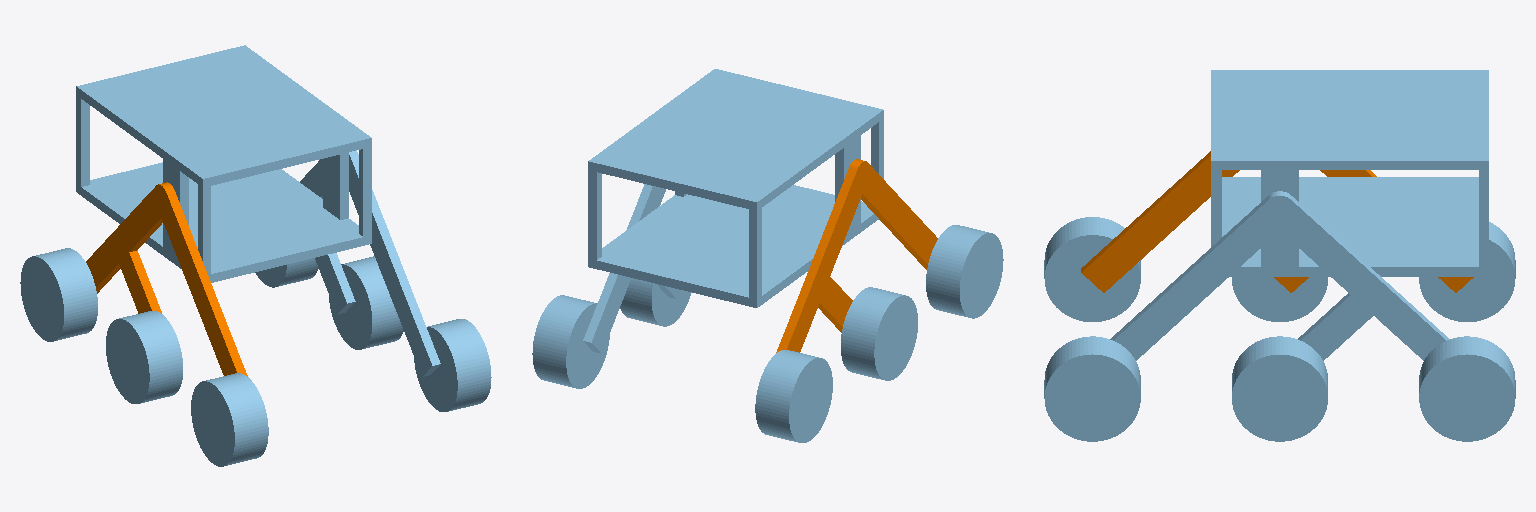
URDF robot description (test-robot):
<?xml version="1.0" ?>
<robot name="test-robot">
  <!-- Link chassis -->
  <link name="chassis">
    <inertial>
      <origin xyz="-0.267839 0.236882 0.0746766" rpy="0 0 0"/>
      <mass value="19.9998"/>
      <inertia ixx="1.60493" ixy="-0" ixz="-0" iyy="1.55529" iyz="-0.131187" izz="2.02854"/>
    </inertial>
    <!-- Part chassis -->
    <visual>
      <origin xyz="-0.521839 0.646545 0.02613" rpy="0 -0 0"/>
      <geometry>
        <mesh filename="package://robot_description/urc-robot/assets/chassis.stl"/>
      </geometry>
      <material name="chassis_material">
        <color rgba="0.615686 0.811765 0.929412 1"/>
      </material>
    </visual>
    <collision>
      <origin xyz="-0.521839 0.646545 0.02613" rpy="0 -0 0"/>
      <geometry>
        <mesh filename="package://robot_description/urc-robot/assets/chassis.stl"/>
      </geometry>
    </collision>
    <!-- Part part_1_mirrored -->
    <visual>
      <origin xyz="-0.526919 0.149975 0.21536" rpy="3.14159 -0 3.14159"/>
      <geometry>
        <mesh filename="package://robot_description/urc-robot/assets/part_1_mirrored.stl"/>
      </geometry>
      <material name="part_1_mirrored_material">
        <color rgba="0.972549 0.529412 0.00392157 1"/>
      </material>
    </visual>
    <collision>
      <origin xyz="-0.526919 0.149975 0.21536" rpy="3.14159 -0 3.14159"/>
      <geometry>
        <mesh filename="package://robot_description/urc-robot/assets/part_1_mirrored.stl"/>
      </geometry>
    </collision>
    <!-- Part part_1 -->
    <visual>
      <origin xyz="-0.00875944 0.149975 0.21536" rpy="0 -0 0"/>
      <geometry>
        <mesh filename="package://robot_description/urc-robot/assets/part_1.stl"/>
      </geometry>
      <material name="part_1_material">
        <color rgba="0.615686 0.811765 0.929412 1"/>
      </material>
    </visual>
    <collision>
      <origin xyz="-0.00875944 0.149975 0.21536" rpy="0 -0 0"/>
      <geometry>
        <mesh filename="package://robot_description/urc-robot/assets/part_1.stl"/>
      </geometry>
    </collision>
  </link>
  <!-- Link wheel -->
  <link name="wheel">
    <inertial>
      <origin xyz="0 -0 -0.0508" rpy="0 0 0"/>
      <mass value="1.00017"/>
      <inertia ixx="0.00412704" ixy="0" ixz="0" iyy="0.00412704" iyz="0" izz="0.00653336"/>
    </inertial>
    <!-- Part wheel -->
    <visual>
      <origin xyz="0 0 0" rpy="1.5708 1.5708 0"/>
      <geometry>
        <mesh filename="package://robot_description/urc-robot/assets/wheel.stl"/>
      </geometry>
      <material name="wheel_material">
        <color rgba="0.615686 0.811765 0.929412 1"/>
      </material>
    </visual>
    <collision>
      <origin xyz="0 0 0" rpy="1.5708 1.5708 0"/>
      <geometry>
        <mesh filename="package://robot_description/urc-robot/assets/wheel.stl"/>
      </geometry>
    </collision>
  </link>
  <!-- Joint from chassis to wheel -->
  <joint name="front_left_wheel_joint" type="continuous">
    <origin xyz="0.0166406 -0.294525 -0.22914" rpy="-1.5708 -0 1.5708"/>
    <parent link="chassis"/>
    <child link="wheel"/>
    <axis xyz="0 0 -1"/>
    <limit effort="10" velocity="10"/>
  </joint>
  <!-- Link wheel_2 -->
  <link name="wheel_2">
    <inertial>
      <origin xyz="-0 -0 -0.0508" rpy="0 0 0"/>
      <mass value="1.00017"/>
      <inertia ixx="0.00412704" ixy="0" ixz="0" iyy="0.00412704" iyz="0" izz="0.00653336"/>
    </inertial>
    <!-- Part wheel_2 -->
    <visual>
      <origin xyz="-0 0 0" rpy="1.5708 1.5708 0"/>
      <geometry>
        <mesh filename="package://robot_description/urc-robot/assets/wheel.stl"/>
      </geometry>
      <material name="wheel_2_material">
        <color rgba="0.615686 0.811765 0.929412 1"/>
      </material>
    </visual>
    <collision>
      <origin xyz="-0 0 0" rpy="1.5708 1.5708 0"/>
      <geometry>
        <mesh filename="package://robot_description/urc-robot/assets/wheel.stl"/>
      </geometry>
    </collision>
  </link>
  <!-- Joint from chassis to wheel_2 -->
  <joint name="mid_left_wheel_joint" type="continuous">
    <origin xyz="0.0166406 0.149975 -0.22914" rpy="-1.5708 -0 1.5708"/>
    <parent link="chassis"/>
    <child link="wheel_2"/>
    <axis xyz="0 0 -1"/>
    <limit effort="10" velocity="10"/>
  </joint>
  <!-- Link wheel_3 -->
  <link name="wheel_3">
    <inertial>
      <origin xyz="0 -0 -0.0508" rpy="0 0 0"/>
      <mass value="1.00017"/>
      <inertia ixx="0.00412704" ixy="0" ixz="0" iyy="0.00412704" iyz="0" izz="0.00653336"/>
    </inertial>
    <!-- Part wheel_3 -->
    <visual>
      <origin xyz="0 0 0" rpy="1.5708 1.5708 0"/>
      <geometry>
        <mesh filename="package://robot_description/urc-robot/assets/wheel.stl"/>
      </geometry>
      <material name="wheel_3_material">
        <color rgba="0.615686 0.811765 0.929412 1"/>
      </material>
    </visual>
    <collision>
      <origin xyz="0 0 0" rpy="1.5708 1.5708 0"/>
      <geometry>
        <mesh filename="package://robot_description/urc-robot/assets/wheel.stl"/>
      </geometry>
    </collision>
  </link>
  <!-- Joint from chassis to wheel_3 -->
  <joint name="back_left_wheel_joint" type="continuous">
    <origin xyz="0.0166406 0.594475 -0.22914" rpy="-1.5708 -0 1.5708"/>
    <parent link="chassis"/>
    <child link="wheel_3"/>
    <axis xyz="0 0 -1"/>
    <limit effort="10" velocity="10"/>
  </joint>
  <!-- Link wheel_4 -->
  <link name="wheel_4">
    <inertial>
      <origin xyz="0 0 -0.0508" rpy="0 0 0"/>
      <mass value="1.00017"/>
      <inertia ixx="0.00412704" ixy="0" ixz="0" iyy="0.00412704" iyz="0" izz="0.00653336"/>
    </inertial>
    <!-- Part wheel_4 -->
    <visual>
      <origin xyz="0 0 -0.1016" rpy="-1.5708 -1.5708 0"/>
      <geometry>
        <mesh filename="package://robot_description/urc-robot/assets/wheel.stl"/>
      </geometry>
      <material name="wheel_4_material">
        <color rgba="0.615686 0.811765 0.929412 1"/>
      </material>
    </visual>
    <collision>
      <origin xyz="0 0 -0.1016" rpy="-1.5708 -1.5708 0"/>
      <geometry>
        <mesh filename="package://robot_description/urc-robot/assets/wheel.stl"/>
      </geometry>
    </collision>
  </link>
  <!-- Joint from chassis to wheel_4 -->
  <joint name="front_right_wheel_joint" type="continuous">
    <origin xyz="-0.552319 -0.294525 -0.22914" rpy="1.5708 -0 1.5708"/>
    <parent link="chassis"/>
    <child link="wheel_4"/>
    <axis xyz="0 0 1"/>
    <limit effort="10" velocity="10"/>
  </joint>
  <!-- Link wheel_5 -->
  <link name="wheel_5">
    <inertial>
      <origin xyz="0 0 -0.0508" rpy="0 0 0"/>
      <mass value="1.00017"/>
      <inertia ixx="0.00412704" ixy="0" ixz="0" iyy="0.00412704" iyz="0" izz="0.00653336"/>
    </inertial>
    <!-- Part wheel_5 -->
    <visual>
      <origin xyz="0 0 -0.1016" rpy="-1.5708 -1.5708 0"/>
      <geometry>
        <mesh filename="package://robot_description/urc-robot/assets/wheel.stl"/>
      </geometry>
      <material name="wheel_5_material">
        <color rgba="0.615686 0.811765 0.929412 1"/>
      </material>
    </visual>
    <collision>
      <origin xyz="0 0 -0.1016" rpy="-1.5708 -1.5708 0"/>
      <geometry>
        <mesh filename="package://robot_description/urc-robot/assets/wheel.stl"/>
      </geometry>
    </collision>
  </link>
  <!-- Joint from chassis to wheel_5 -->
  <joint name="mid_right_wheel_joint" type="continuous">
    <origin xyz="-0.552319 0.149975 -0.22914" rpy="1.5708 -0 1.5708"/>
    <parent link="chassis"/>
    <child link="wheel_5"/>
    <axis xyz="0 0 1"/>
    <limit effort="10" velocity="10"/>
  </joint>
  <!-- Link wheel_6 -->
  <link name="wheel_6">
    <inertial>
      <origin xyz="0 0 -0.0508" rpy="0 0 0"/>
      <mass value="1.00017"/>
      <inertia ixx="0.00412704" ixy="0" ixz="0" iyy="0.00412704" iyz="0" izz="0.00653336"/>
    </inertial>
    <!-- Part wheel_6 -->
    <visual>
      <origin xyz="0 0 -0.1016" rpy="-1.5708 -1.5708 0"/>
      <geometry>
        <mesh filename="package://robot_description/urc-robot/assets/wheel.stl"/>
      </geometry>
      <material name="wheel_6_material">
        <color rgba="0.615686 0.811765 0.929412 1"/>
      </material>
    </visual>
    <collision>
      <origin xyz="0 0 -0.1016" rpy="-1.5708 -1.5708 0"/>
      <geometry>
        <mesh filename="package://robot_description/urc-robot/assets/wheel.stl"/>
      </geometry>
    </collision>
  </link>
  <!-- Joint from chassis to wheel_6 -->
  <joint name="back_right_wheel_joint" type="continuous">
    <origin xyz="-0.552319 0.594475 -0.22914" rpy="1.5708 -0 1.5708"/>
    <parent link="chassis"/>
    <child link="wheel_6"/>
    <axis xyz="0 0 1"/>
    <limit effort="10" velocity="10"/>
  </joint>
</robot>

--- Facts derived from the render (not from the file) ---
The picture shows the robot from 3 angles, left to right: view 1: azimuth 30°, elevation 25°; view 2: azimuth 150°, elevation 25°; view 3: azimuth 270°, elevation 25°; orthographic projection.
Robot: test-robot — 7 links, 6 joints (6 continuous); root link chassis; default pose: all joints at 0.
Links seen in each view (by area): view 1: chassis, wheel_4, wheel_6, wheel_5, wheel, wheel_2, wheel_3; view 2: chassis, wheel_6, wheel_4, wheel_5, wheel_3, wheel_2; view 3: chassis, wheel, wheel_3, wheel_2, wheel_4, wheel_6, wheel_5.
Link boxes in pixels (left/top/right/bottom): chassis: left=76, top=45, right=440, bottom=376; wheel_4: left=191, top=373, right=268, bottom=466; wheel_6: left=20, top=248, right=97, bottom=341; wheel_5: left=106, top=311, right=182, bottom=403; wheel: left=414, top=319, right=491, bottom=411; wheel_2: left=329, top=256, right=403, bottom=349; wheel_3: left=255, top=258, right=318, bottom=287; chassis: left=583, top=69, right=937, bottom=353; wheel_6: left=755, top=350, right=832, bottom=442; wheel_4: left=926, top=225, right=1003, bottom=318; wheel_5: left=841, top=287, right=917, bottom=380; wheel_3: left=532, top=295, right=609, bottom=388; wheel_2: left=620, top=278, right=691, bottom=326; chassis: left=1081, top=70, right=1488, bottom=360; wheel: left=1044, top=336, right=1140, bottom=441; wheel_3: left=1419, top=336, right=1515, bottom=441; wheel_2: left=1232, top=336, right=1327, bottom=441; wheel_4: left=1044, top=217, right=1140, bottom=321; wheel_6: left=1419, top=222, right=1515, bottom=321; wheel_5: left=1232, top=277, right=1327, bottom=321.
Size in the robot's own frame: 0.7722 by 1.12 by 0.6744 metres.
9 mesh visuals loaded from 4 distinct referenced files (4 binary STL).
